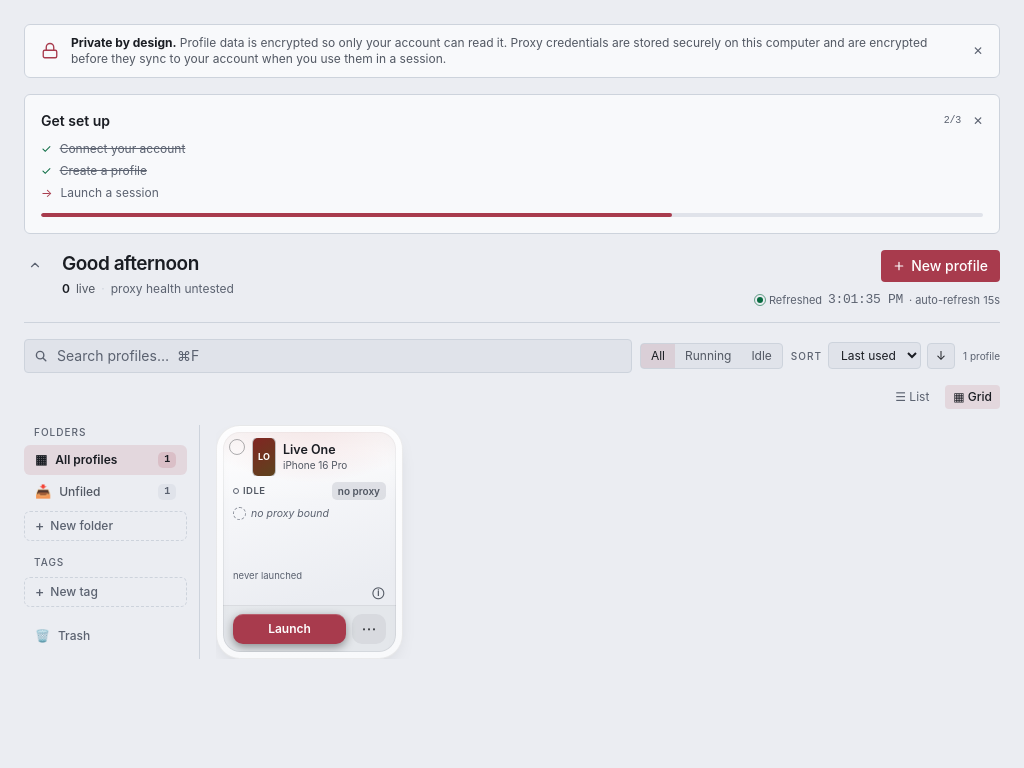
Test: TrashPanel search / sort › filters the trash list by name or device
Expected: the text "Live One" is shown, [283, 442, 336, 456]
Click the button "🗑️ Trash" at (106, 636), box [24, 620, 187, 650]
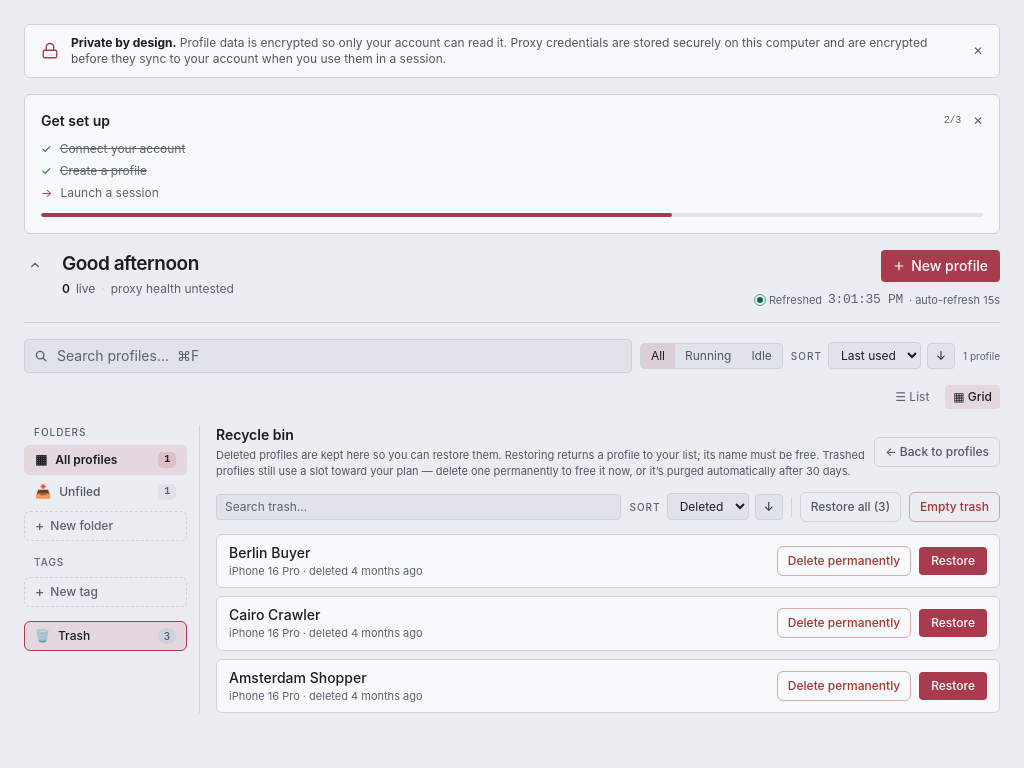
Now the text "Amsterdam Shopper" is shown, box [229, 668, 366, 686]
Type "berlin" into the search field labelled "Search trash" at (419, 506), box [216, 494, 622, 520]
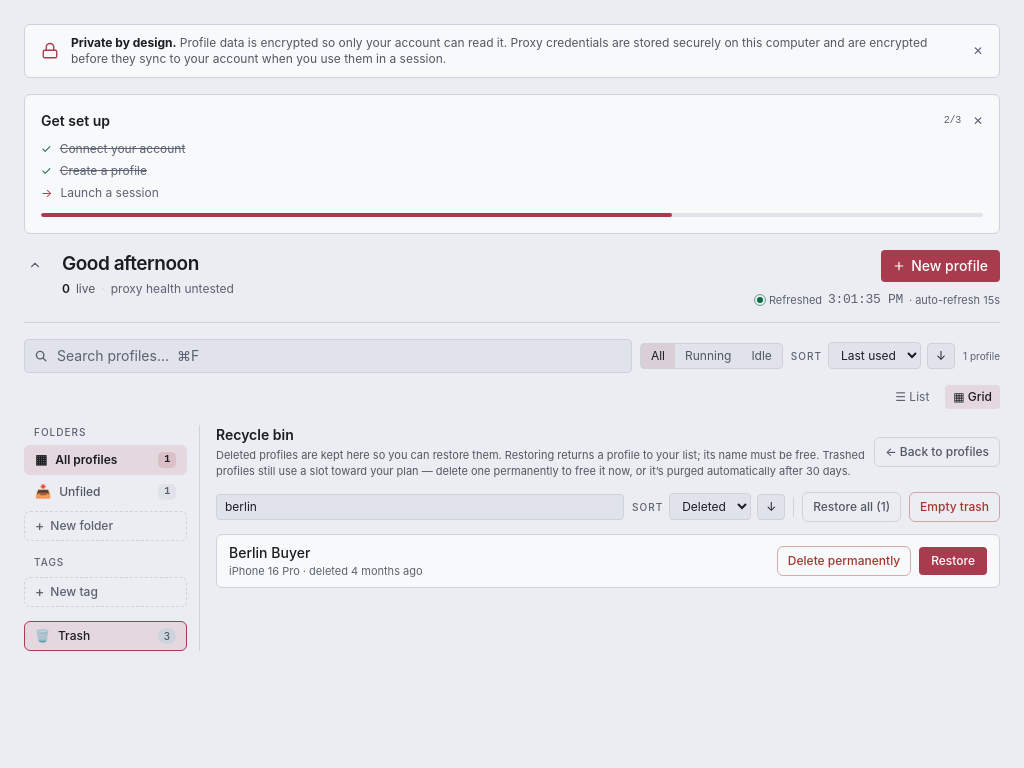
Now the text "Amsterdam Shopper" is gone
